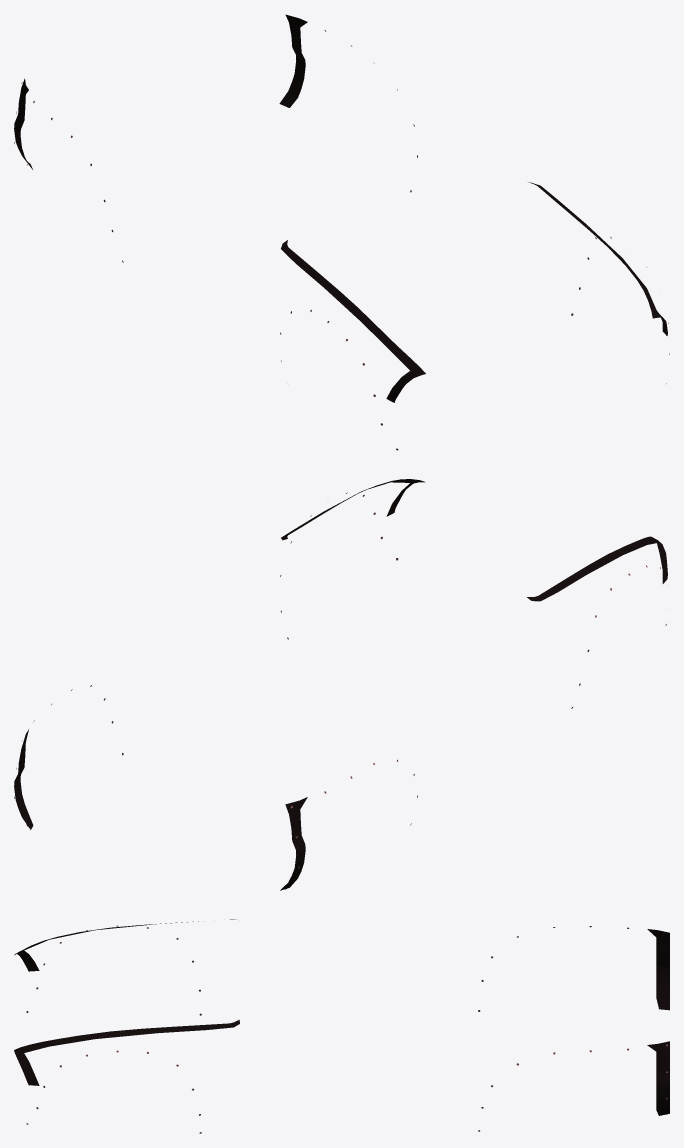
Rendered from MX5_Fender02_Trim.fbx.
3 renders of one model, top to bottom at view 1: azimuth 30°, elevation 25°; view 2: azimuth 150°, elevation 25°; view 3: azimuth 270°, elevation 25°, orthographic. The views are drawn at different scales.
Visible parts, largest first — view 1: MX5_Fender02_Trim; view 2: MX5_Fender02_Trim; view 3: MX5_Fender02_Trim.
Boxes of the visible parts, left/top/right/bottom form: MX5_Fender02_Trim: left=14, top=14, right=669, bottom=450; MX5_Fender02_Trim: left=14, top=479, right=667, bottom=890; MX5_Fender02_Trim: left=14, top=919, right=669, bottom=1133.
Size of the model in its own units: 161 by 61.17 by 347.
